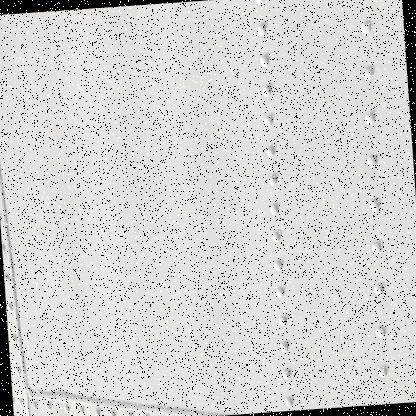Nocrack: (0, 11, 410, 415)
